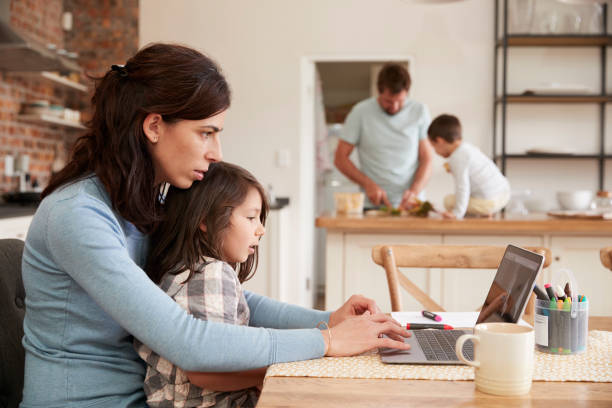without mask: (141, 96, 226, 191), (210, 181, 269, 271), (361, 61, 421, 122), (425, 119, 460, 160)
